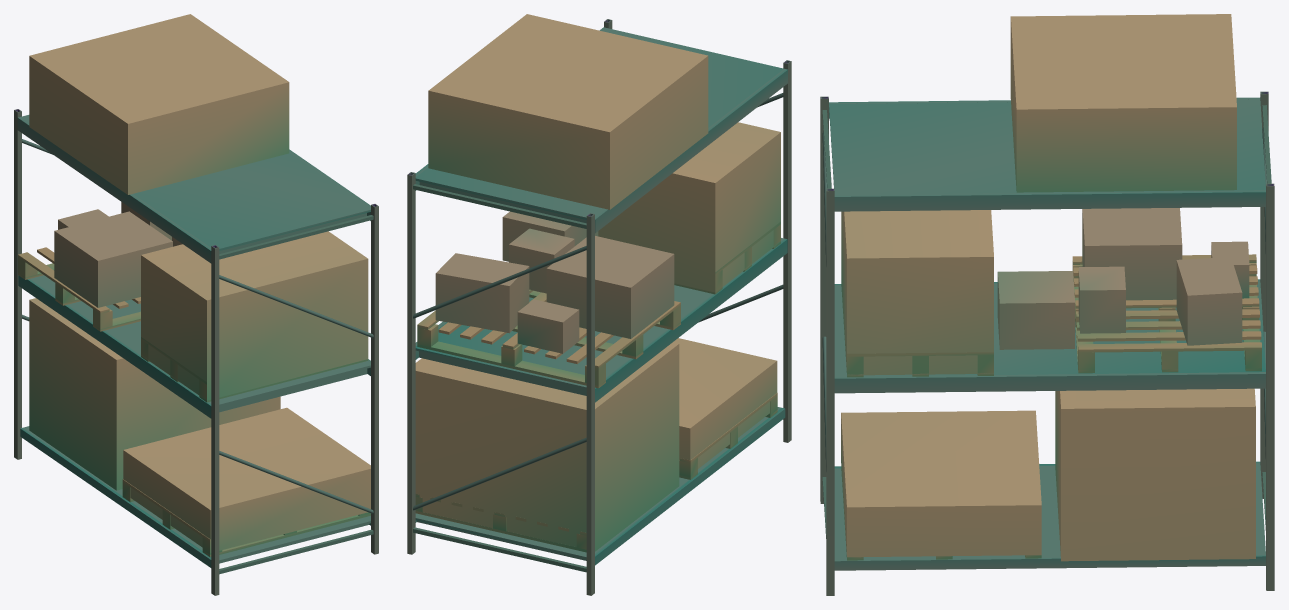
Rendered from simready-rack_composition_a20.glb.
3 views of the same model, side by side, from view 1: azimuth 30°, elevation 25°; view 2: azimuth 150°, elevation 25°; view 3: azimuth 270°, elevation 25° (orthographic). The views are drawn at different scales.
Visible parts, largest first — view 1: upper_load, middle_large_load, low_load, tall_load, shelf_sheet.002, large_package, post.001, shelf_edge.003, post.002, shelf_edge.005, shelf_sheet.001, post.003 (+11 smaller); view 2: upper_load, tall_load, middle_large_load, large_package, low_load, shelf_sheet.002, rear_package, shelf_sheet.001, post.003, post.004, post.001, shelf_edge.003 (+15 smaller); view 3: upper_load, tall_load, low_load, middle_large_load, shelf_sheet.002, shelf_sheet.001, large_package, shelf_edge.006, shelf_edge.004, projecting_block, rear_package, shelf_edge.002 (+12 smaller).
Part boxes in pixels (box(x1,y1,x2,y2)): upper_load: box(29, 14, 289, 194); middle_large_load: box(141, 231, 368, 400); low_load: box(123, 407, 370, 552); tall_load: box(29, 298, 280, 490); shelf_sheet.002: box(21, 115, 370, 250); large_package: box(54, 211, 172, 307); post.001: box(211, 245, 219, 595); shelf_edge.003: box(18, 275, 211, 418); post.002: box(371, 204, 378, 554); shelf_edge.005: box(17, 117, 211, 263); shelf_sheet.001: box(31, 275, 370, 406); post.003: box(14, 109, 21, 459); upper_load: box(428, 14, 708, 209); tall_load: box(415, 342, 679, 551); middle_large_load: box(598, 122, 780, 292); large_package: box(546, 236, 674, 338); low_load: box(673, 338, 777, 468); shelf_sheet.002: box(415, 28, 783, 219); rear_package: box(435, 253, 529, 333); shelf_sheet.001: box(415, 238, 783, 389); post.003: box(586, 213, 594, 595); post.004: box(407, 172, 415, 554); post.001: box(783, 60, 791, 442); shelf_edge.003: box(595, 238, 787, 402); upper_load: box(1010, 14, 1236, 192); tall_load: box(1055, 388, 1255, 561); low_load: box(841, 410, 1041, 557); middle_large_load: box(841, 210, 993, 375); shelf_sheet.002: box(829, 99, 1265, 194); shelf_sheet.001: box(834, 281, 1265, 376); large_package: box(1082, 208, 1182, 300); shelf_edge.006: box(834, 190, 1265, 211); shelf_edge.004: box(834, 372, 1265, 393); projecting_block: box(997, 271, 1074, 349); rear_package: box(1176, 257, 1242, 345); shelf_edge.002: box(834, 554, 1265, 570).
Bounding box in the file's own units: 1.32 × 2.89 × 2.47.
